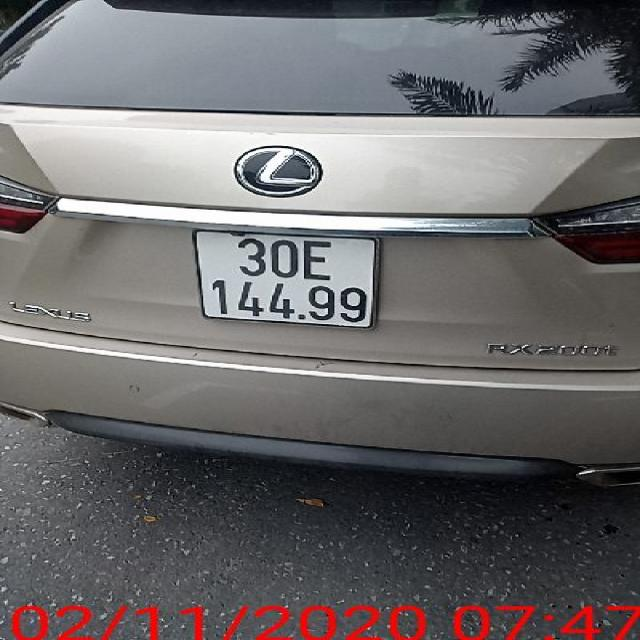car_plate: (188, 228, 382, 333)
